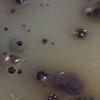black: (54, 70, 82, 94), (82, 0, 100, 24), (3, 54, 23, 66), (72, 27, 88, 41), (34, 70, 48, 83), (68, 95, 95, 100), (7, 66, 16, 75), (40, 37, 48, 47), (16, 66, 24, 76), (47, 92, 57, 100), (15, 40, 24, 48), (15, 0, 26, 6), (10, 8, 18, 16), (20, 22, 27, 29), (49, 40, 56, 47), (3, 25, 9, 33), (38, 2, 44, 8), (26, 28, 32, 33), (46, 2, 50, 8), (2, 52, 7, 56)
